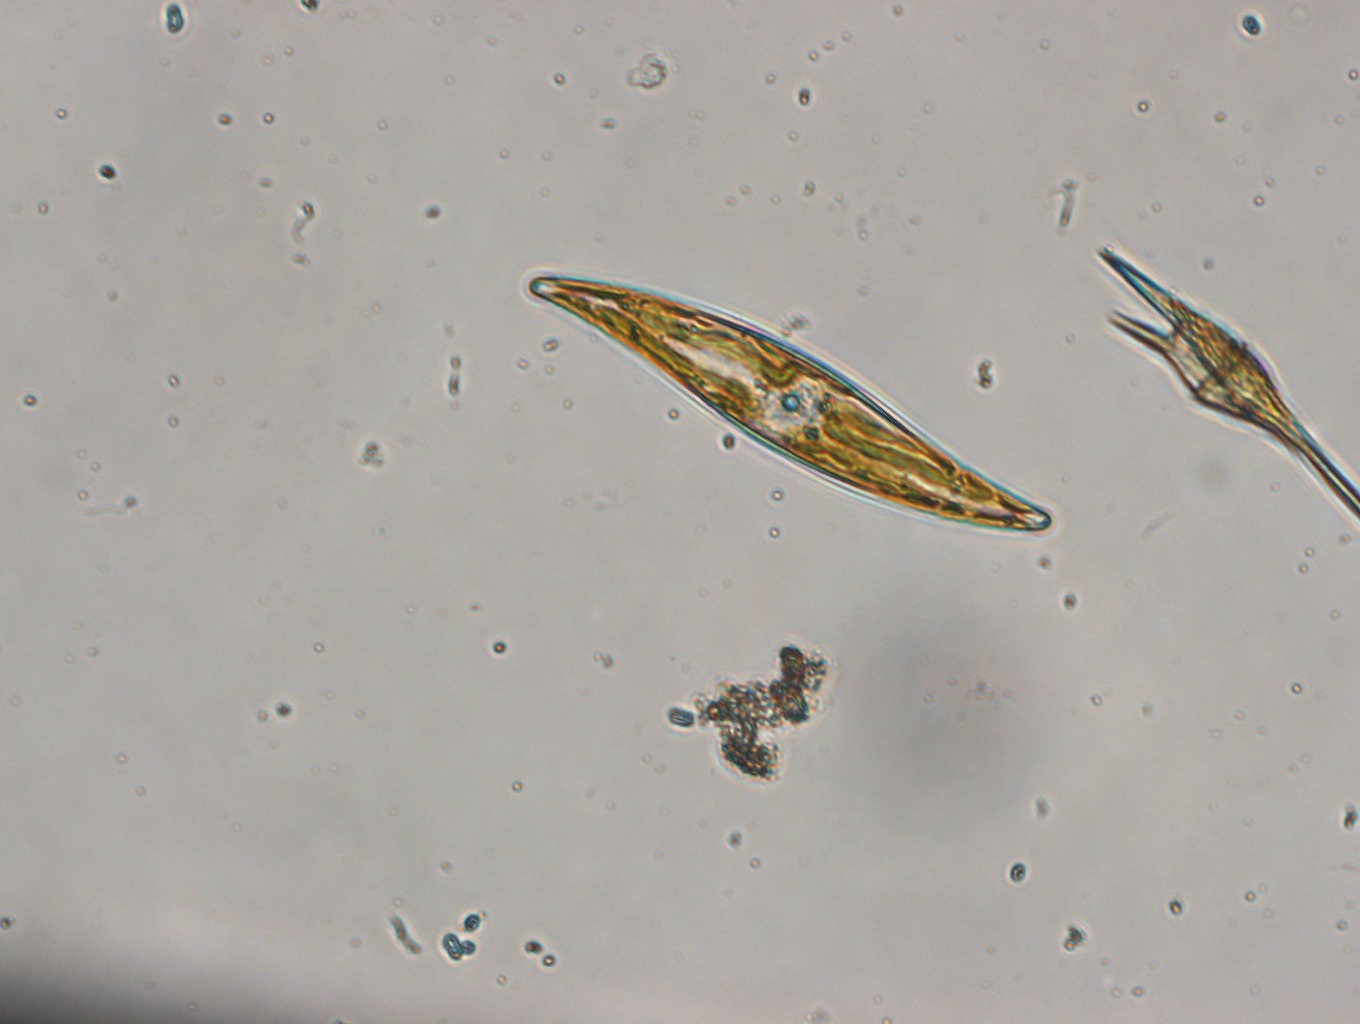ceratium furca: (1096, 247, 1360, 517)
pleurosigma pelagicum: (526, 271, 1053, 536)
